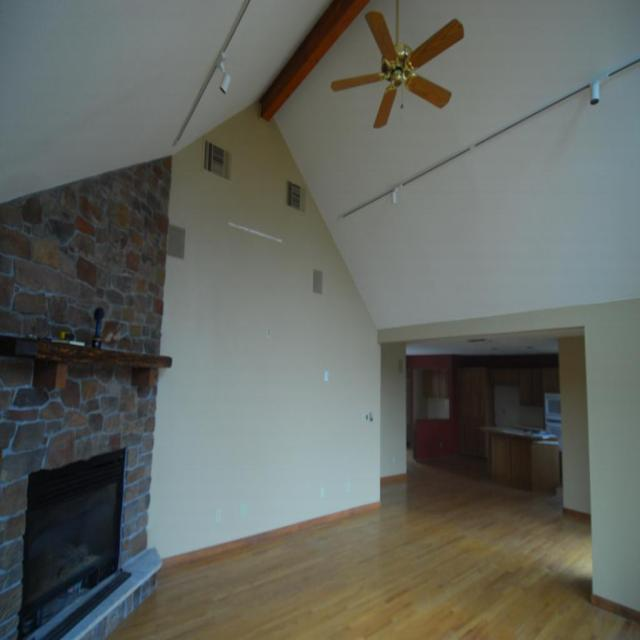fan_off: (331, 0, 469, 131)
tubelight_off: (227, 217, 289, 247)
